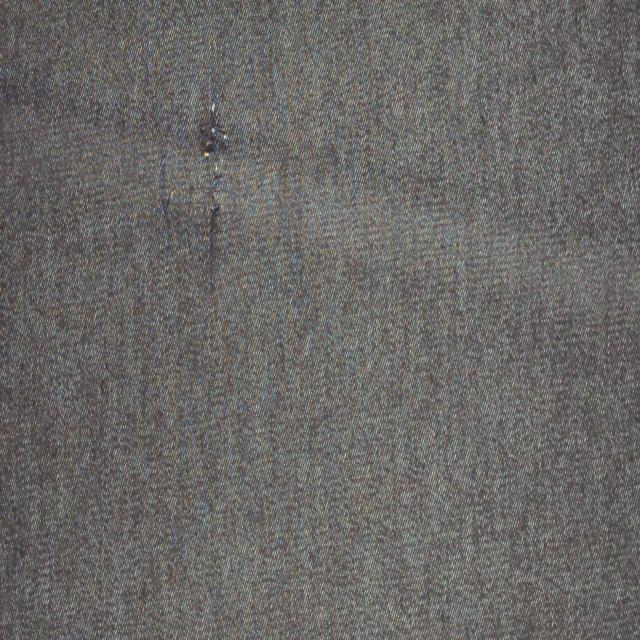Knot: (198, 101, 229, 292), (159, 152, 172, 226)
